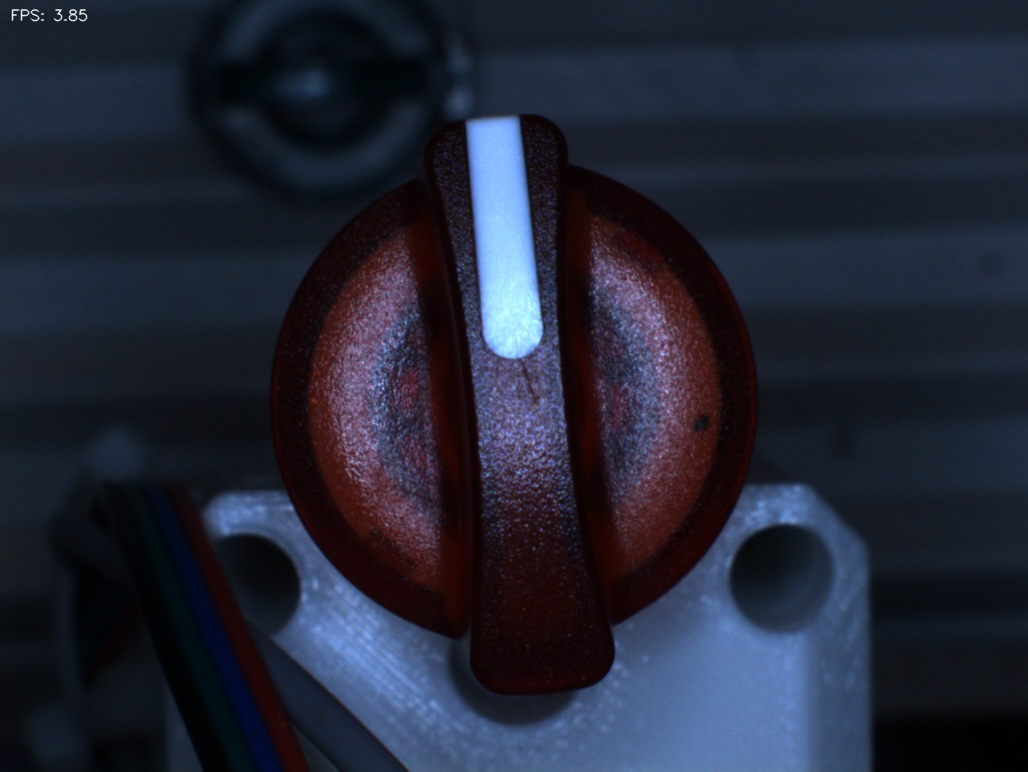PointNoir: (646, 374, 742, 461)
